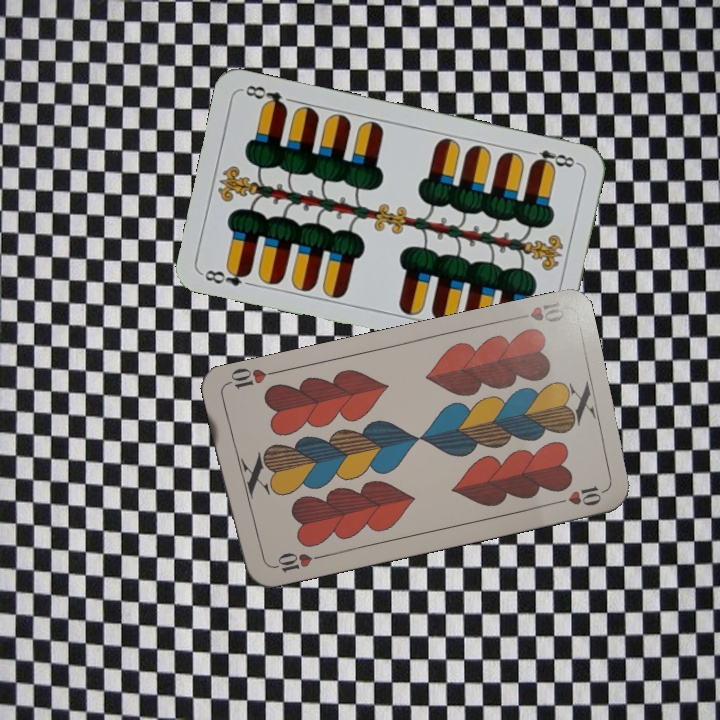E8: (522, 145, 581, 171), (199, 262, 254, 289)
H10: (507, 297, 567, 325), (265, 548, 324, 576)
